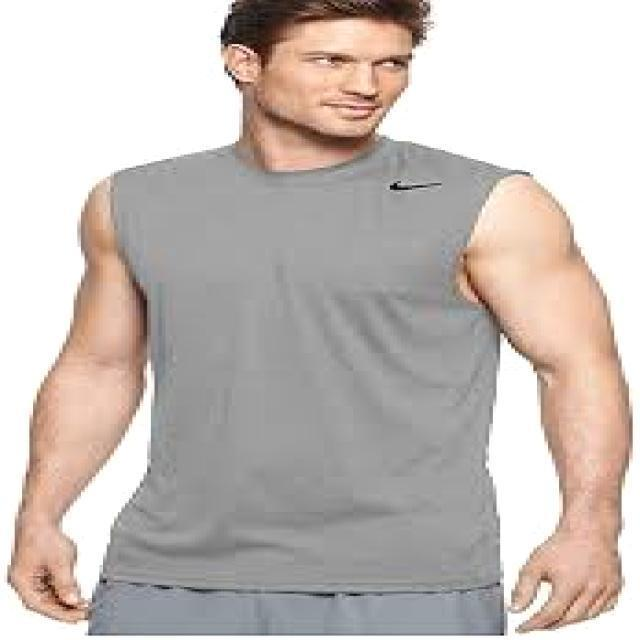no_vest: (100, 132, 536, 594)
